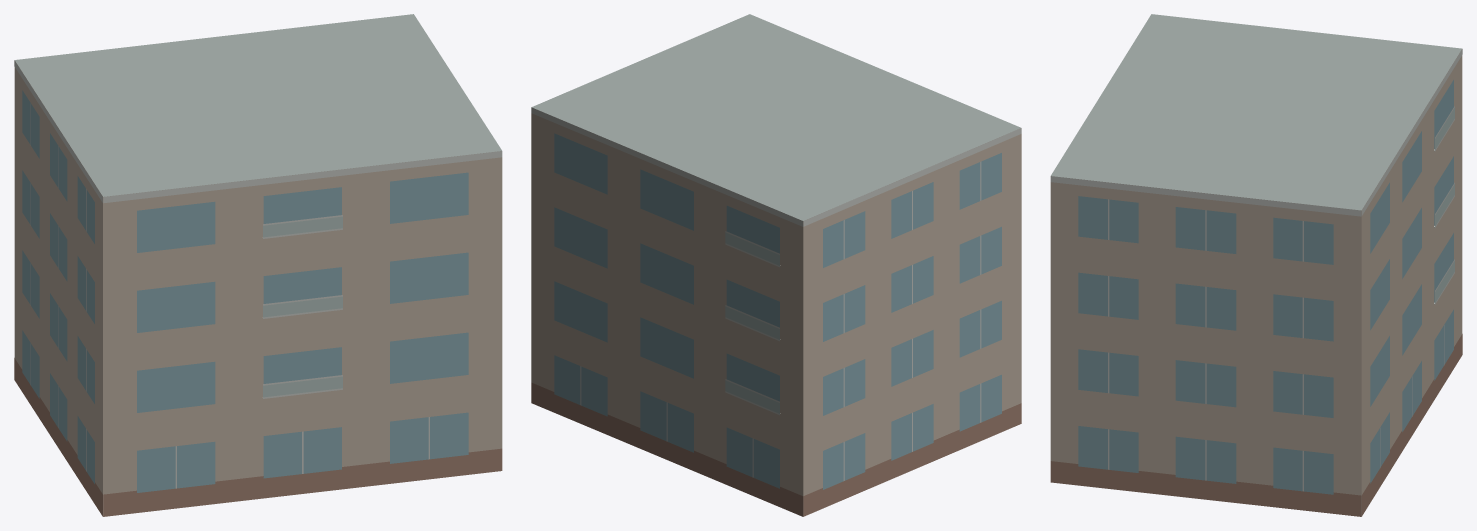
Rendered from residential-1032a913-ca75-4859-8a20-c9f09295f1cd.glb.
3 renders of one model, left to right at view 1: azimuth 30°, elevation 25°; view 2: azimuth 150°, elevation 25°; view 3: azimuth 270°, elevation 25°, orthographic. The views are drawn at different scales.
Parts seen in each view (by area): view 1: residential-1032a913-ca75-4859-8a20-c9f09295f1cd.tmp; view 2: residential-1032a913-ca75-4859-8a20-c9f09295f1cd.tmp; view 3: residential-1032a913-ca75-4859-8a20-c9f09295f1cd.tmp.
Boxes of the visible parts, box(x1,y1,x2,y2) form: residential-1032a913-ca75-4859-8a20-c9f09295f1cd.tmp: box(14, 14, 502, 516); residential-1032a913-ca75-4859-8a20-c9f09295f1cd.tmp: box(531, 14, 1021, 516); residential-1032a913-ca75-4859-8a20-c9f09295f1cd.tmp: box(1050, 14, 1462, 516).
Size of the model in its own units: 16.79 by 12.2 by 14.87.
